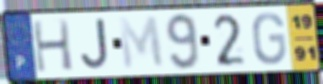2: (212, 13, 247, 68)
9: (164, 11, 202, 72)
G: (251, 11, 289, 67)
H: (30, 18, 75, 74)
J: (79, 17, 110, 72)
M: (117, 15, 167, 72)
